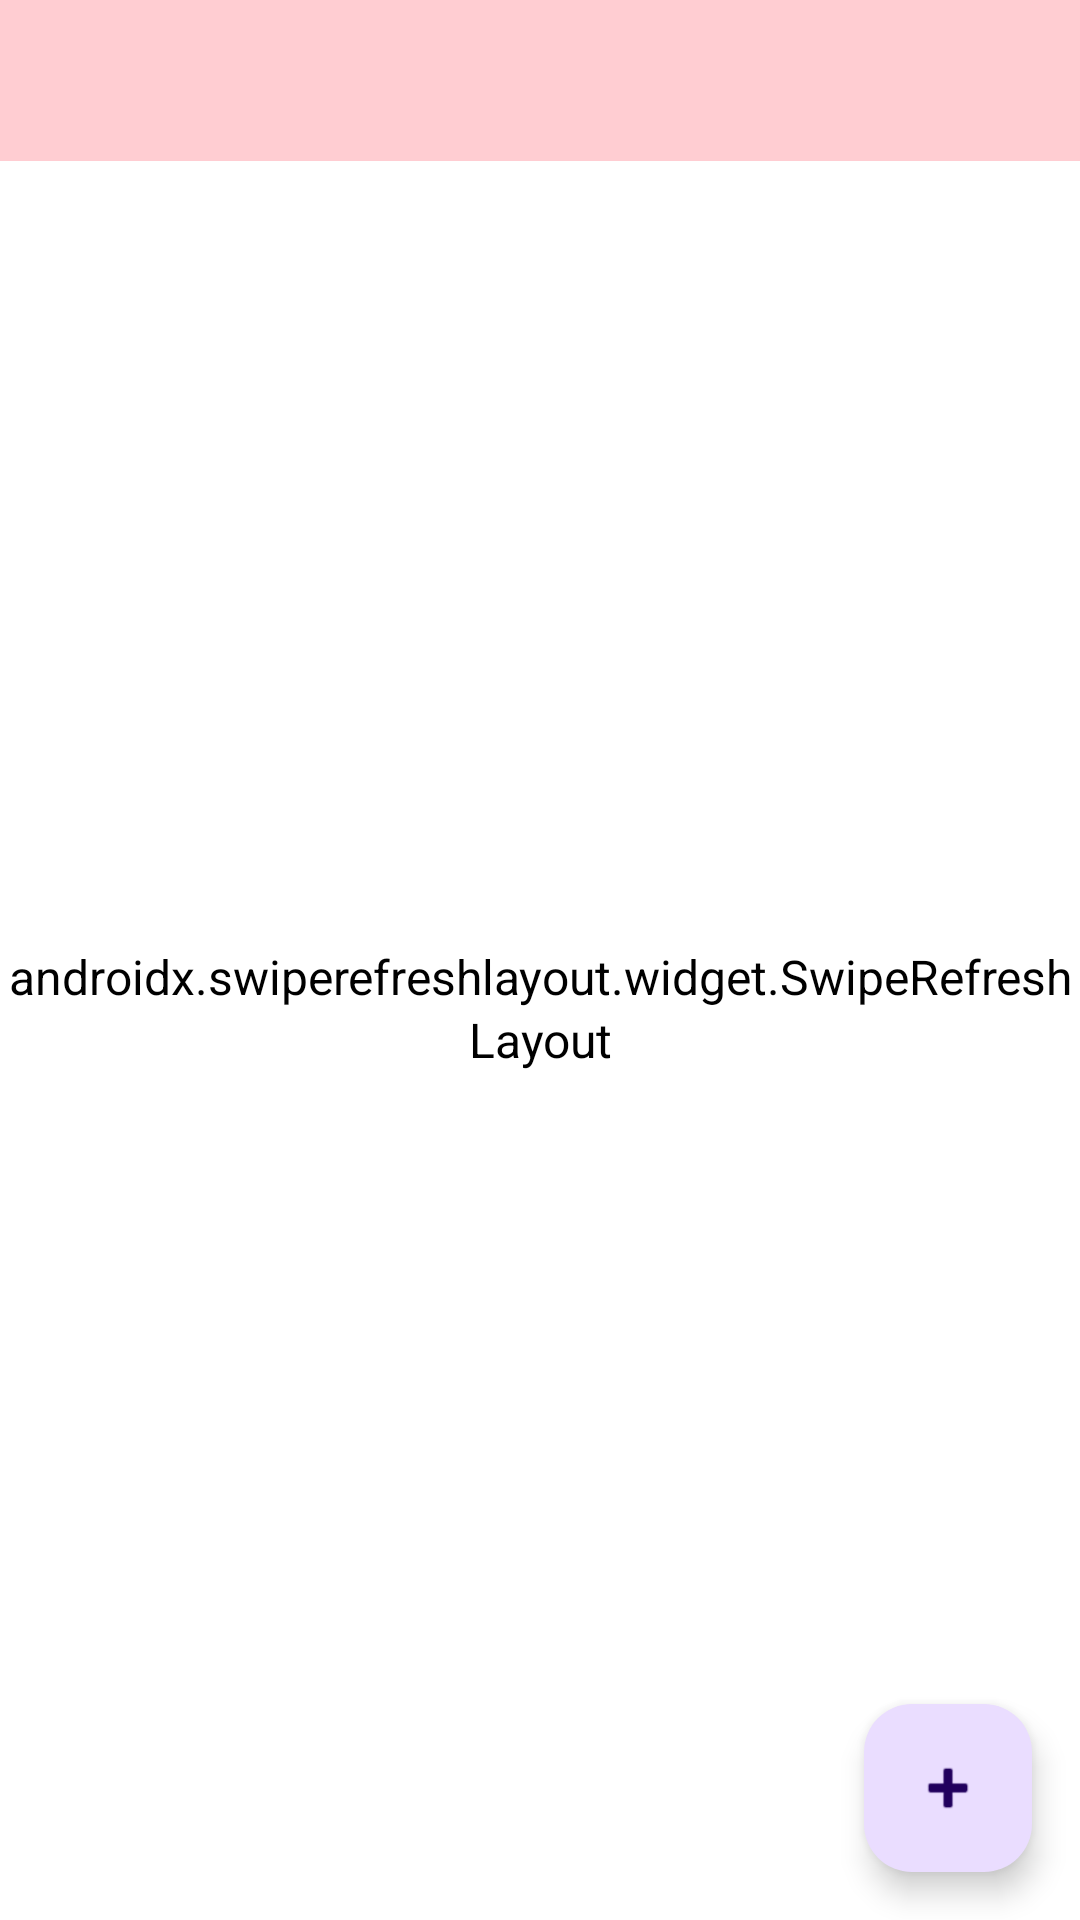

Where icons sit on this 1080px x 1920px app screen, as box(x1, y1, x2, y2):
Create new session: box(864, 1704, 1032, 1872)
